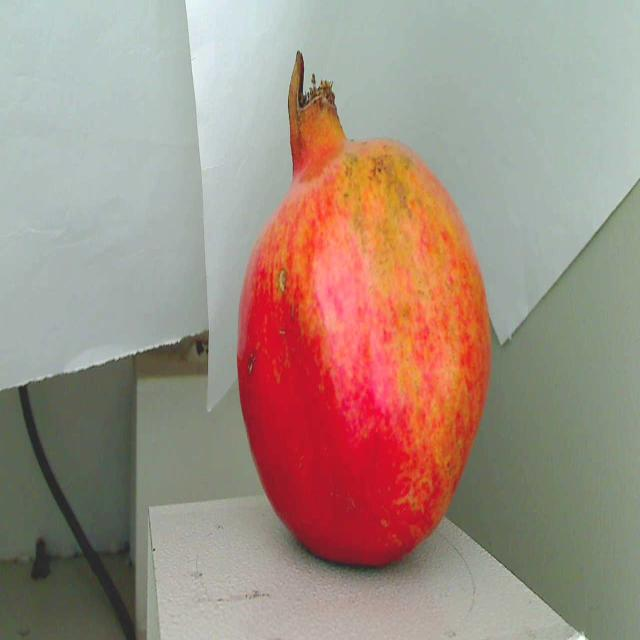pomegranate: (226, 40, 499, 574)
